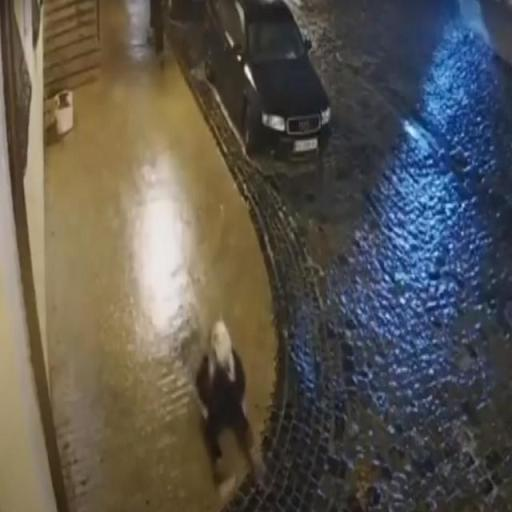Fall: (193, 312, 267, 504)
